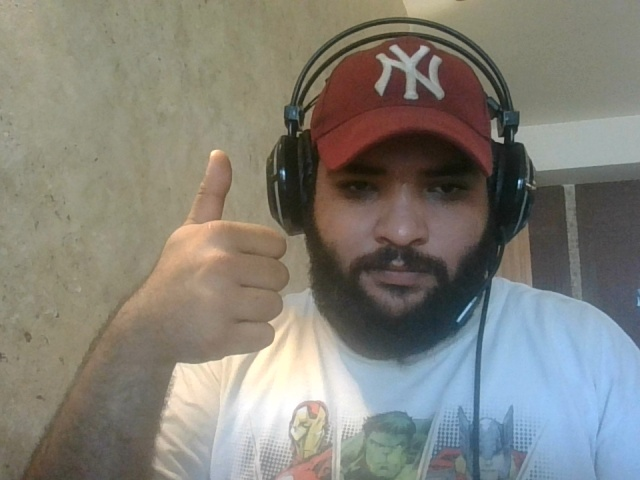yes: (133, 148, 291, 371)
